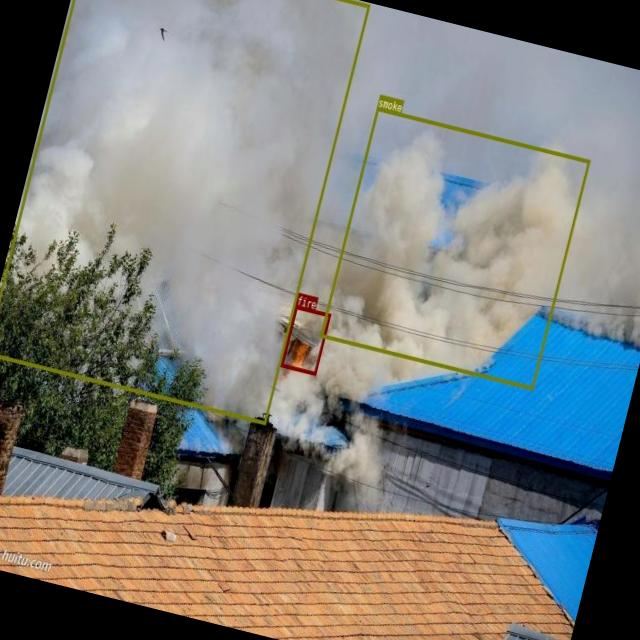fire: (280, 304, 330, 375)
smoke: (0, 0, 369, 423), (319, 106, 590, 389)
